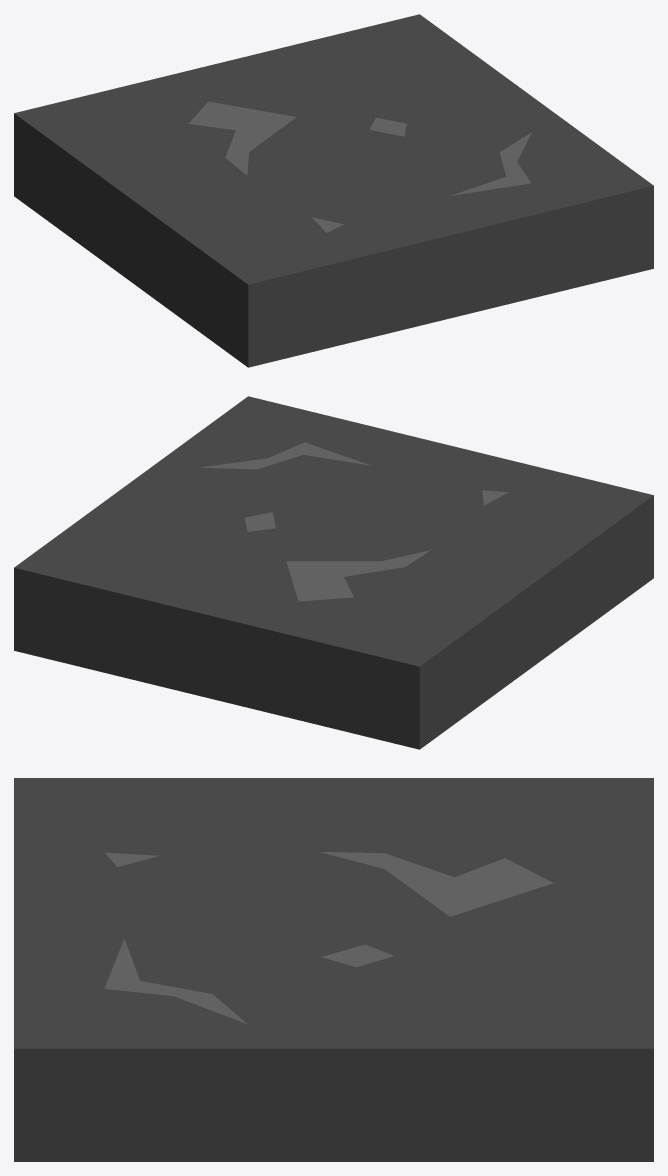
File: Ground_3_4.glb
3 views of the same model, one above another, from view 1: azimuth 30°, elevation 25°; view 2: azimuth 150°, elevation 25°; view 3: azimuth 270°, elevation 25° (orthographic). The views are drawn at different scales.
Parts seen in each view (by area): view 1: Ground_3_4; view 2: Ground_3_4; view 3: Ground_3_4.
Part boxes in pixels (<box>): Ground_3_4: <box>14,14,653,367</box>; Ground_3_4: <box>14,396,653,749</box>; Ground_3_4: <box>14,778,653,1161</box>.
Bounding box in the file's own units: 2 × 0.3912 × 2.
1 material, 1 textured.
